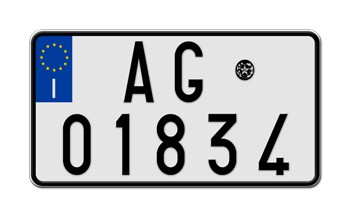numberPlate: (33, 32, 318, 182)
